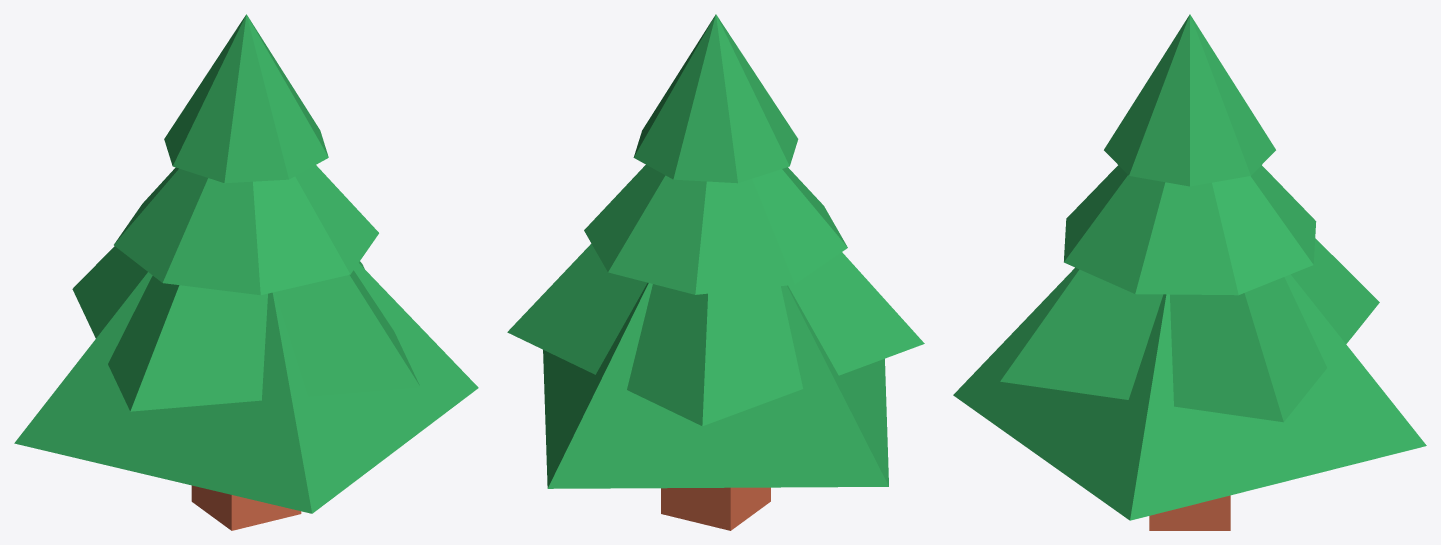
The model's file is Wood.fbx.
3 renders of one model, left to right at view 1: azimuth 30°, elevation 25°; view 2: azimuth 150°, elevation 25°; view 3: azimuth 270°, elevation 25°, orthographic.
Parts seen in each view (by area): view 1: Куб; view 2: Куб; view 3: Куб.
Boxes of the visible parts, left/top/right/bottom form: Куб: left=14, top=14, right=478, bottom=530; Куб: left=507, top=14, right=924, bottom=530; Куб: left=953, top=14, right=1426, bottom=530.
Size of the model in its own units: 191 by 222 by 191.
